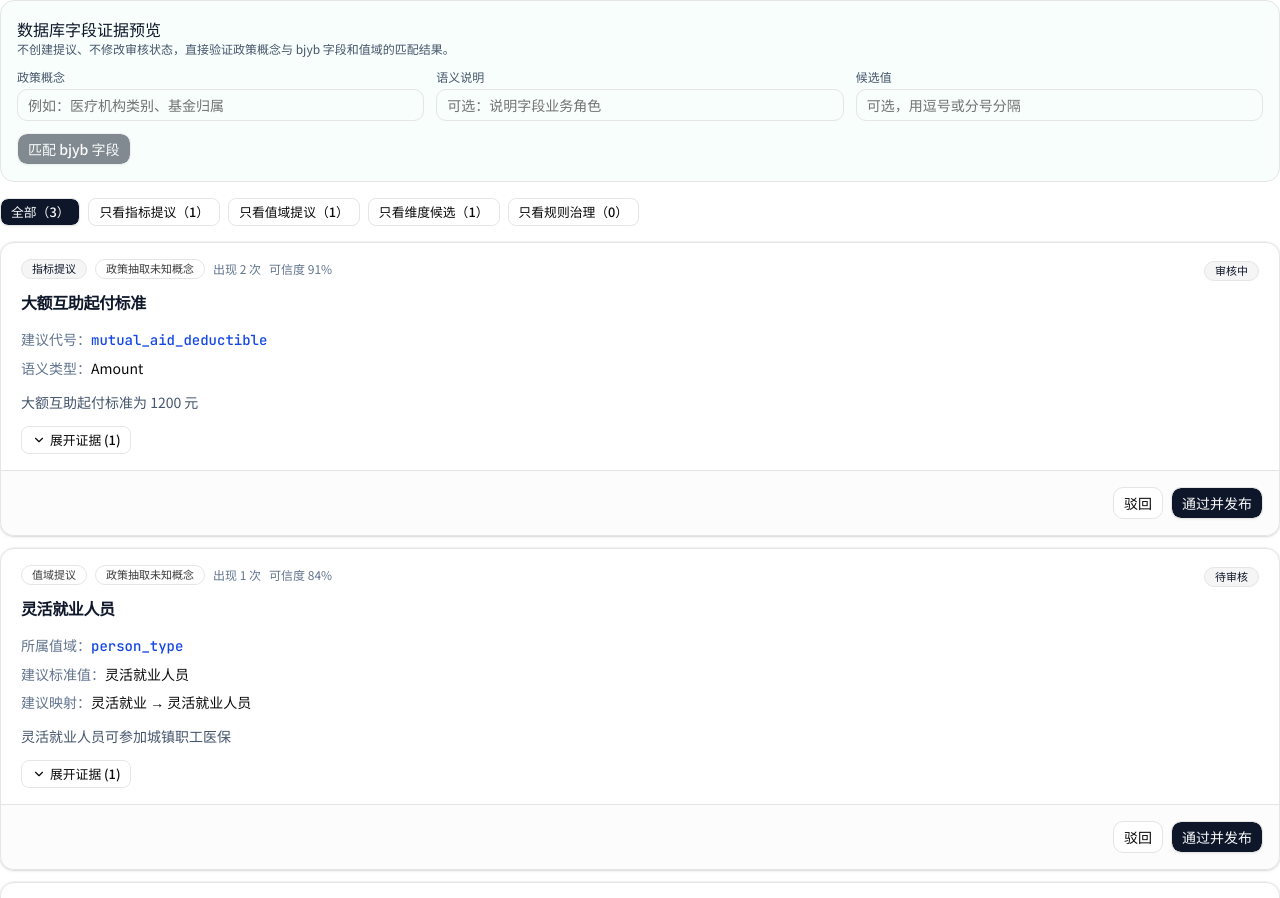
Scenario: SemanticProposalsPage › accepts then publishes in one reviewer action
Click the button with aria-label "通过并发布 mutual_aid_deductible". click: (1217, 503)
box: [1171,487,1263,519]
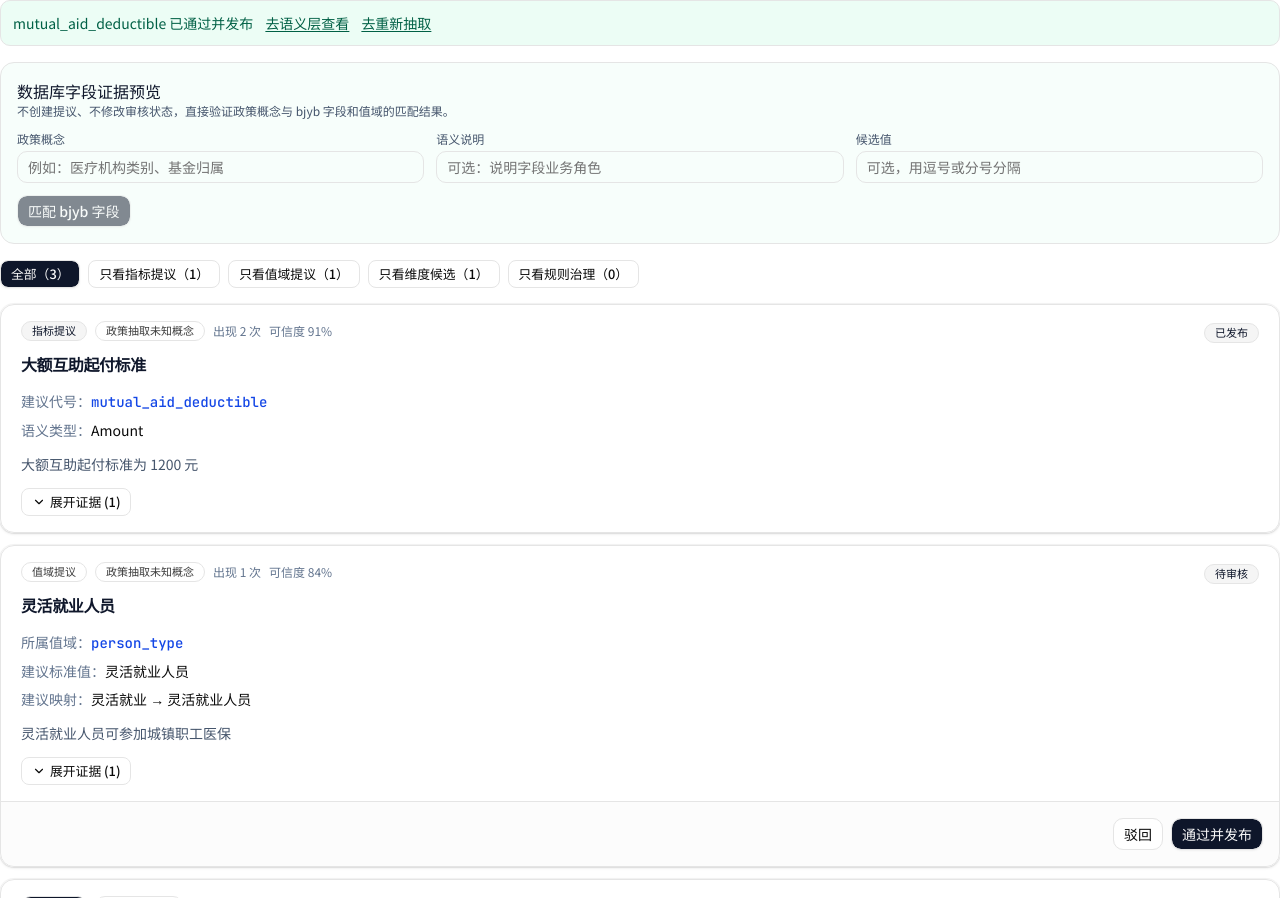
expect the icon "已发布" is shown: met, box [1204,323,1259,343]
expect the message shows "已通过并发布": met, box [13,13,253,33]
